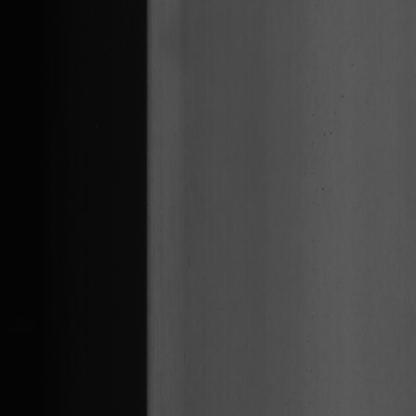inclusion: (316, 121, 334, 156), (328, 84, 346, 111)
